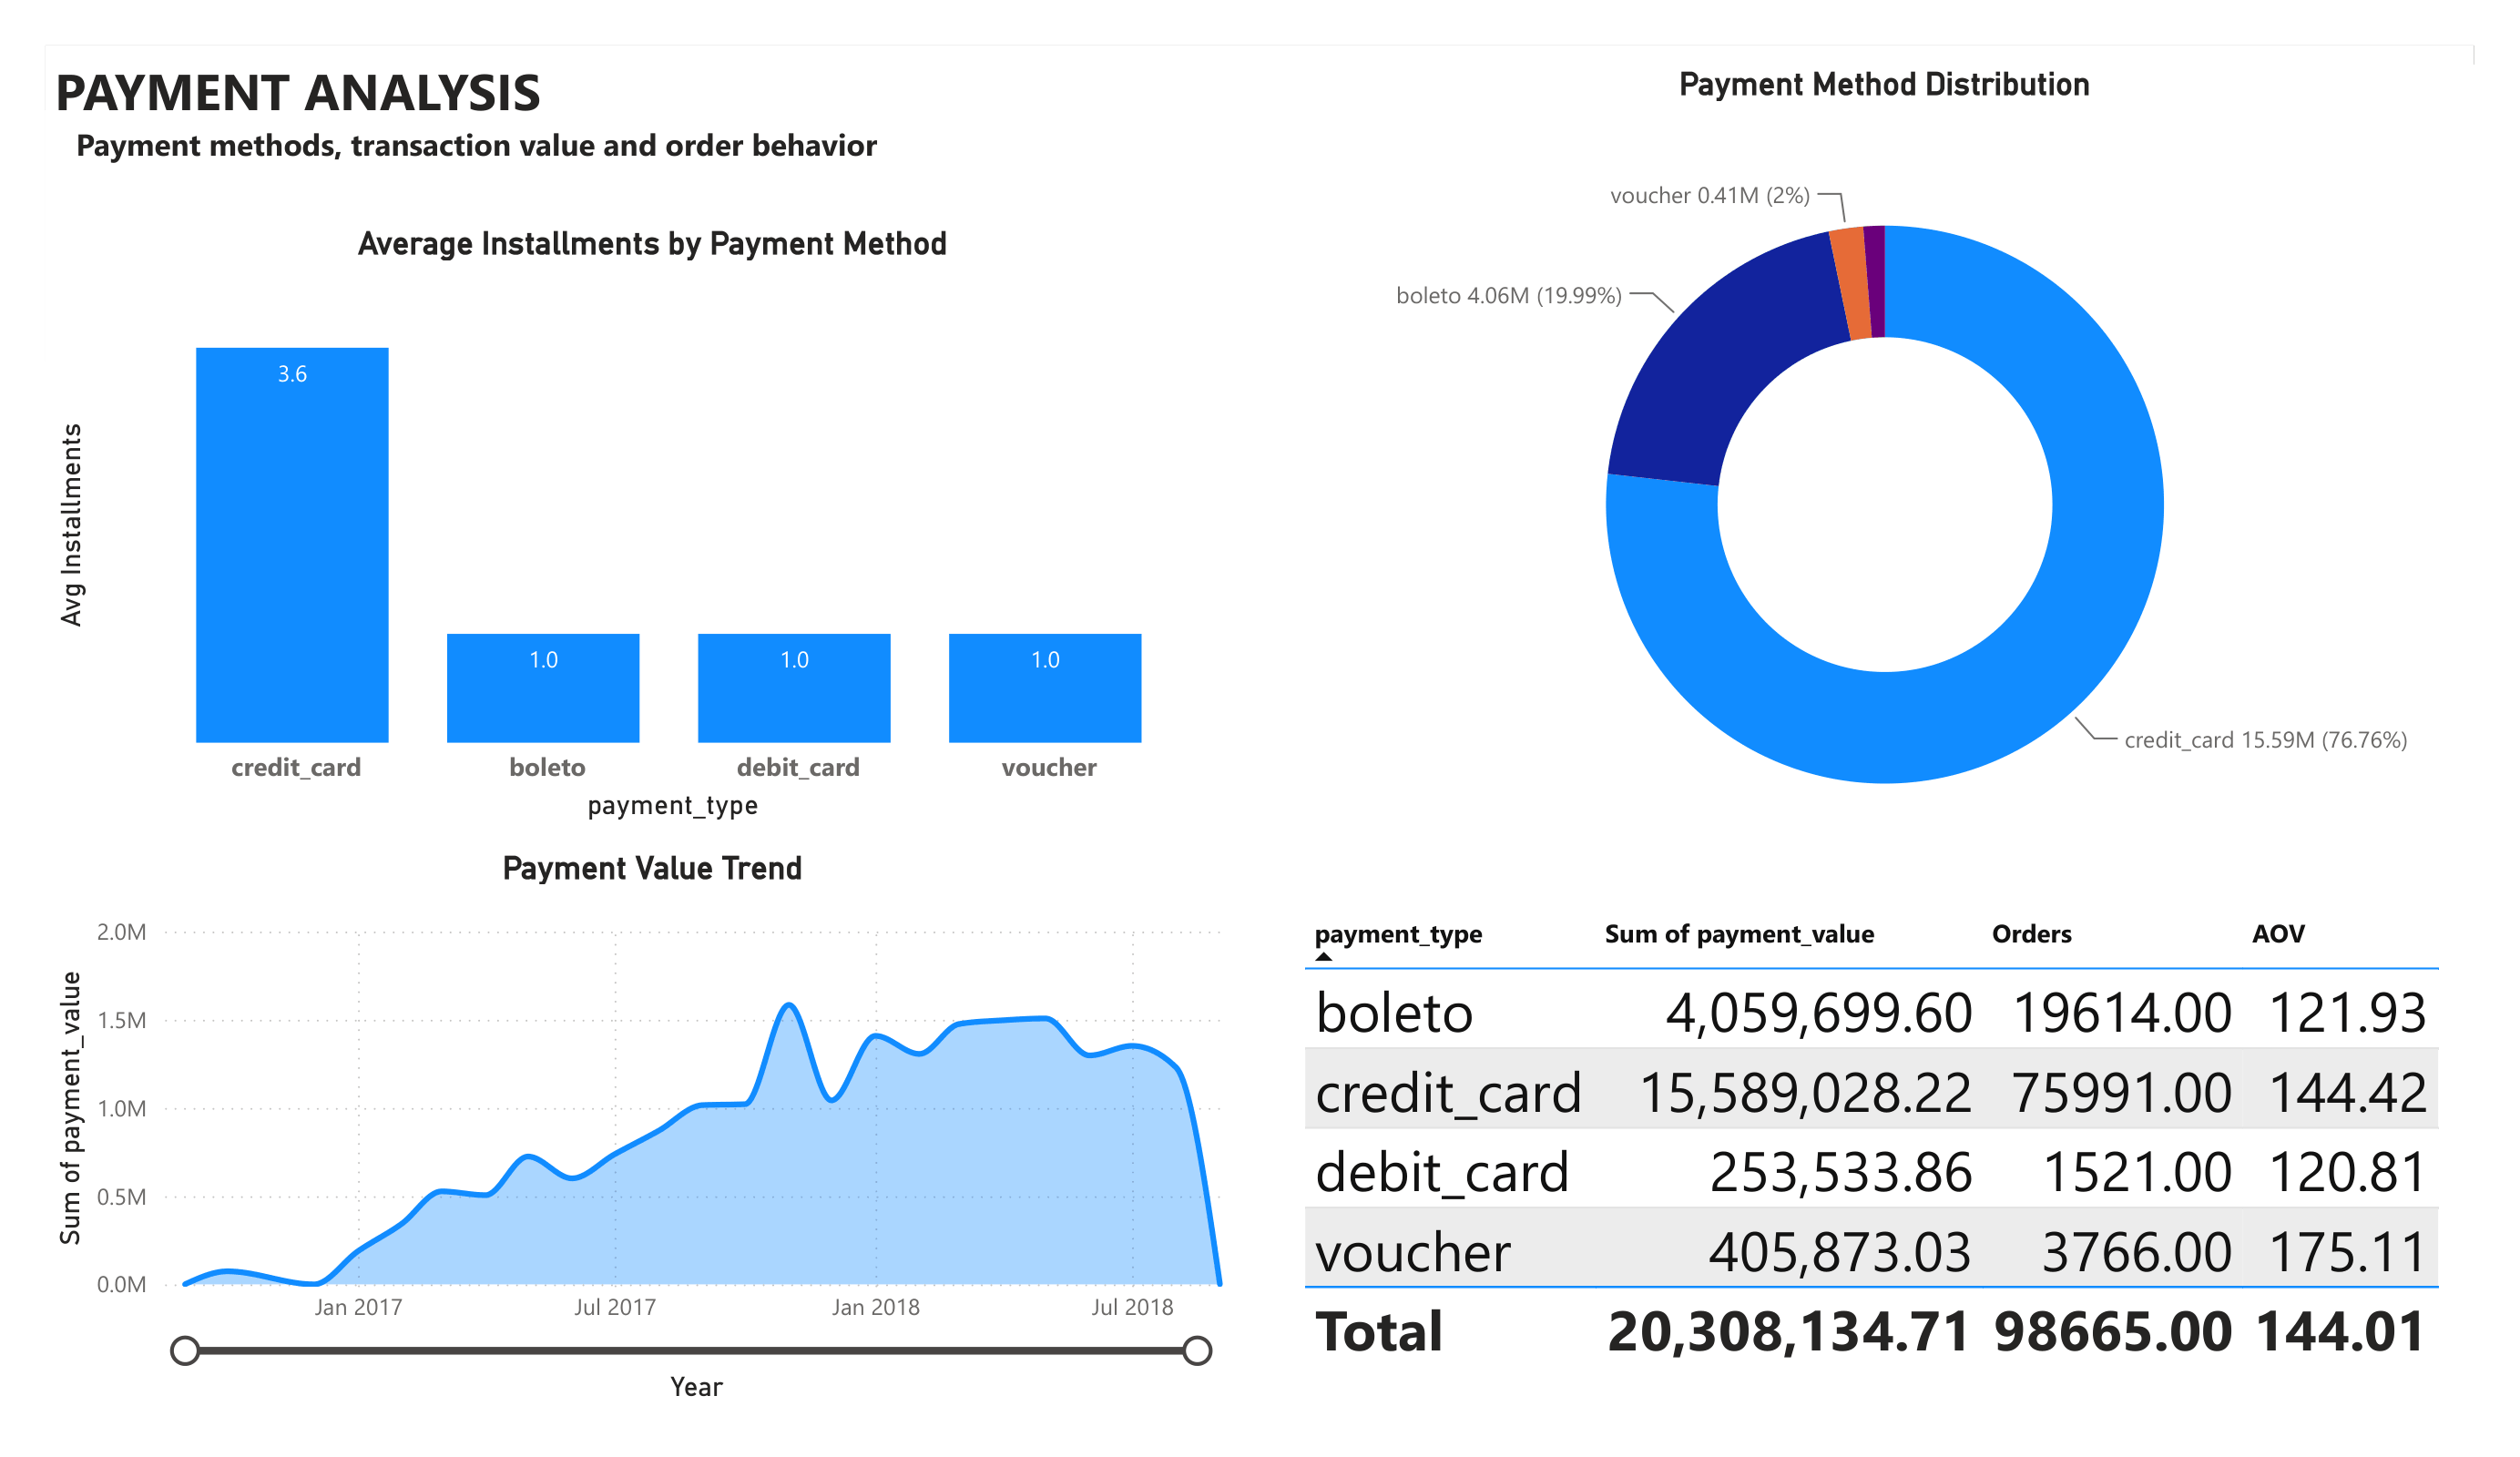

The page's visual inventory and layout, read from the dashboard file:
{"tool":"powerbi","page":{"name":"Payments","canvas":[1280,720],"ordinal":6},"visuals":[{"type":"donutChart","title":"        Payment Method Distribution","fields":{"Category":["public bi_fact_sales.payment_type"],"Y":["Sum(public bi_fact_sales.payment_value)"]},"box":[657.5,10,623.8,433.8],"z":0},{"type":"clusteredColumnChart","title":"        Average Installments by Payment Method","fields":{"Category":["public bi_fact_sales.payment_type"],"Y":["public bi_fact_sales.Avg Installments"]},"box":[0,93.8,640,318.8],"z":1000},{"type":"lineChart","title":"Payment Value Trend","fields":{"Category":["DimDate.Date.Variation.Date Hierarchy.Year","DimDate.Date.Variation.Date Hierarchy.Quarter","DimDate.Date.Variation.Date Hierarchy.Month"],"Y":["Sum(public bi_fact_sales.payment_value)"]},"box":[0,422.5,640,297.5],"z":2000},{"type":"tableEx","title":"Top 20 Categories","fields":{"Values":["public bi_fact_sales.payment_type","Sum(public bi_fact_sales.payment_value)","public bi_fact_sales.Orders","public bi_fact_sales.AOV"]},"box":[657.5,452.5,622.5,267.5],"z":3000},{"type":"textbox","box":[0,0,657.5,93.8],"z":4000}]}

Visuals, with their boxes on the page's 1280x720 design canvas (x1, y1, x2, y2). These are canvas units, not pixel positions in the 2520x1457 screenshot, which may show the page scaled, cropped or inside an application window:
"        Payment Method Distribution" donutChart: bbox(658, 10, 1281, 444)
"        Average Installments by Payment Method" clusteredColumnChart: bbox(0, 94, 640, 413)
"Payment Value Trend" lineChart: bbox(0, 422, 640, 720)
"Top 20 Categories" tableEx: bbox(658, 452, 1280, 720)
textbox: bbox(0, 0, 658, 94)
